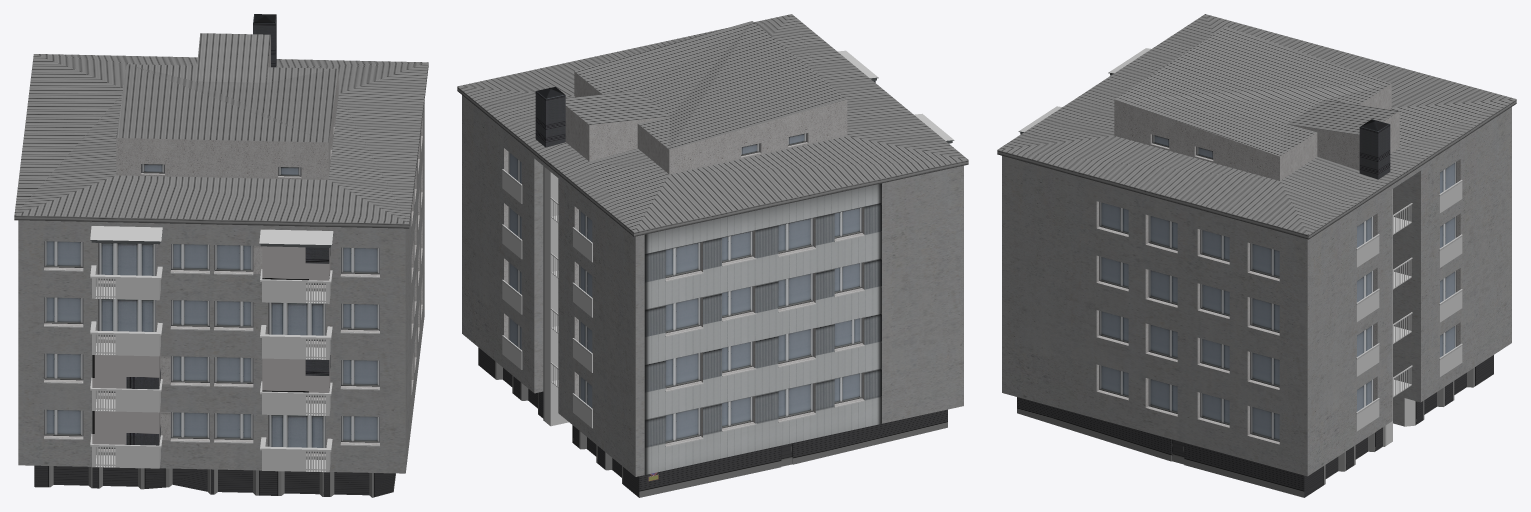
The model's file is Building1_2.FBX.
3 renders of one model, left to right at view 1: azimuth 30°, elevation 25°; view 2: azimuth 150°, elevation 25°; view 3: azimuth 270°, elevation 25°, orthographic. The views are drawn at different scales.
Parts seen in each view (by area): view 1: Block6_Building1_2; view 2: Block6_Building1_2; view 3: Block6_Building1_2.
Part boxes in pixels (x1,y1,x2,y2): Block6_Building1_2: [14, 14, 428, 497]; Block6_Building1_2: [457, 14, 968, 497]; Block6_Building1_2: [997, 14, 1516, 497].
Size of the model in its own units: 2614 by 1789 by 2597.
Materials: 2 (2 with a texture image).
